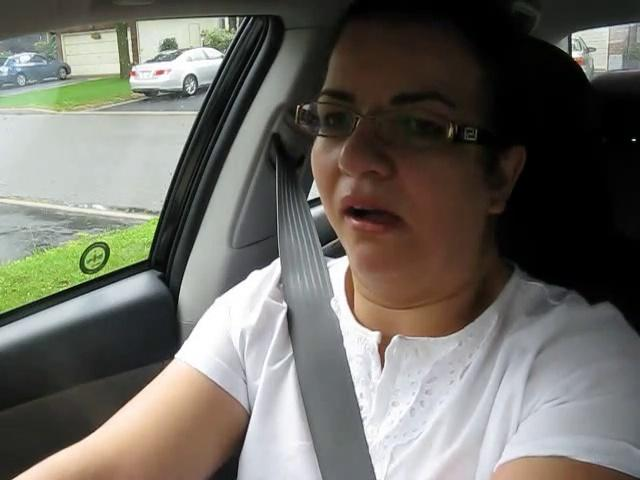open_eyeL: (299, 99, 368, 145)
open_eyeR: (377, 103, 467, 157)
yawn: (323, 187, 417, 243)
